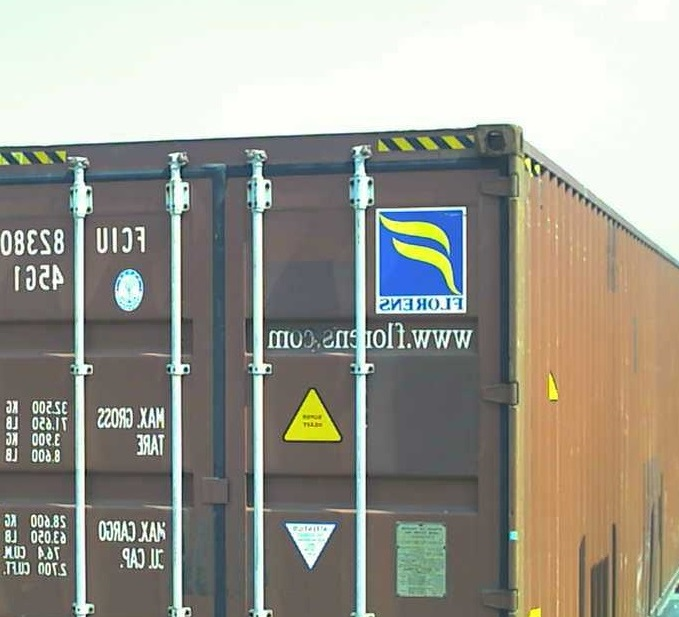container_door: (1, 120, 519, 617)
